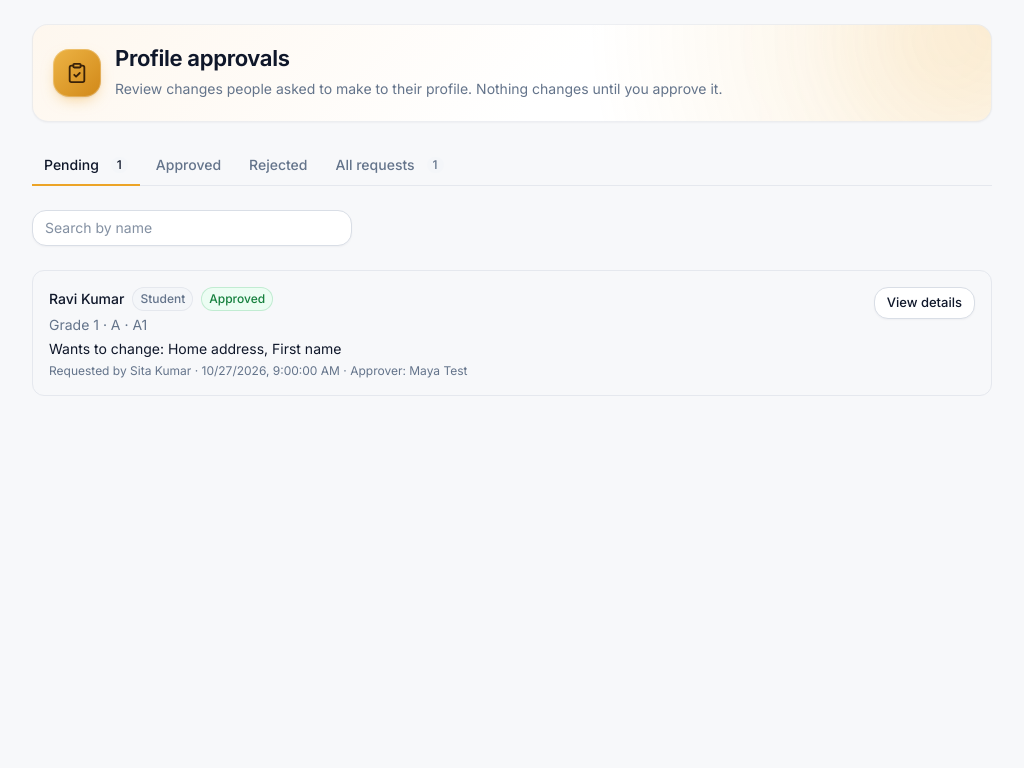
Profile approvals › offers no decision to someone who is only looking
Click the button "View details": x=924, y=302 top-left (874, 286), bottom-right (975, 318)
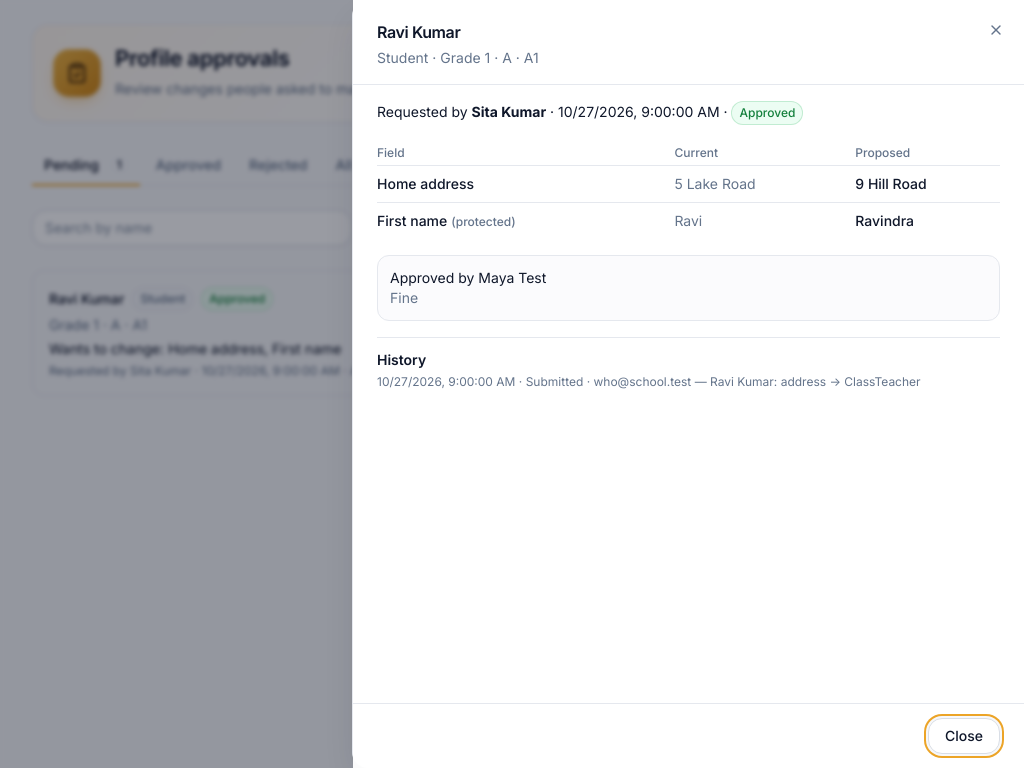
expect the text "Approved by Maya Test Fine" is shown: met, box top-left (377, 255), bottom-right (1000, 321)
expect the text "Fine" is shown: met, box top-left (390, 289), bottom-right (418, 306)
